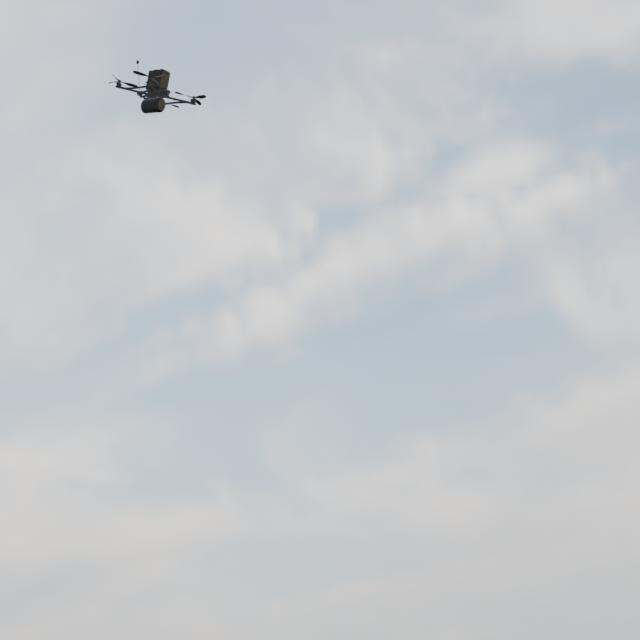drone: (109, 60, 206, 115)
